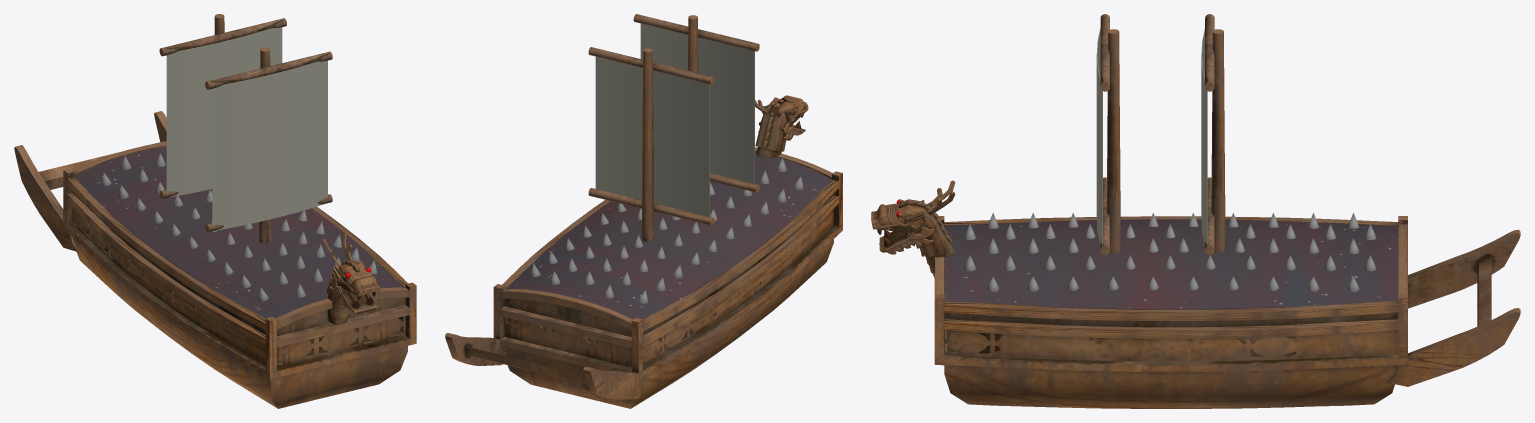
Rendered from Ship_Turtle_01.fbx.
3 renders of one model, left to right at view 1: azimuth 30°, elevation 25°; view 2: azimuth 150°, elevation 25°; view 3: azimuth 270°, elevation 25°, orthographic. The views are drawn at different scales.
Visible parts, largest first — view 1: Ship_Turtle_01; view 2: Ship_Turtle_01; view 3: Ship_Turtle_01.
Boxes of the visible parts, x1,y1,x2,y2 form: Ship_Turtle_01: [14, 14, 416, 408]; Ship_Turtle_01: [445, 14, 842, 408]; Ship_Turtle_01: [871, 14, 1520, 408].
Size of the model in its own units: 992 by 1734 by 2821.
